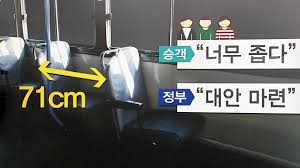seat: (111, 65, 192, 147)
